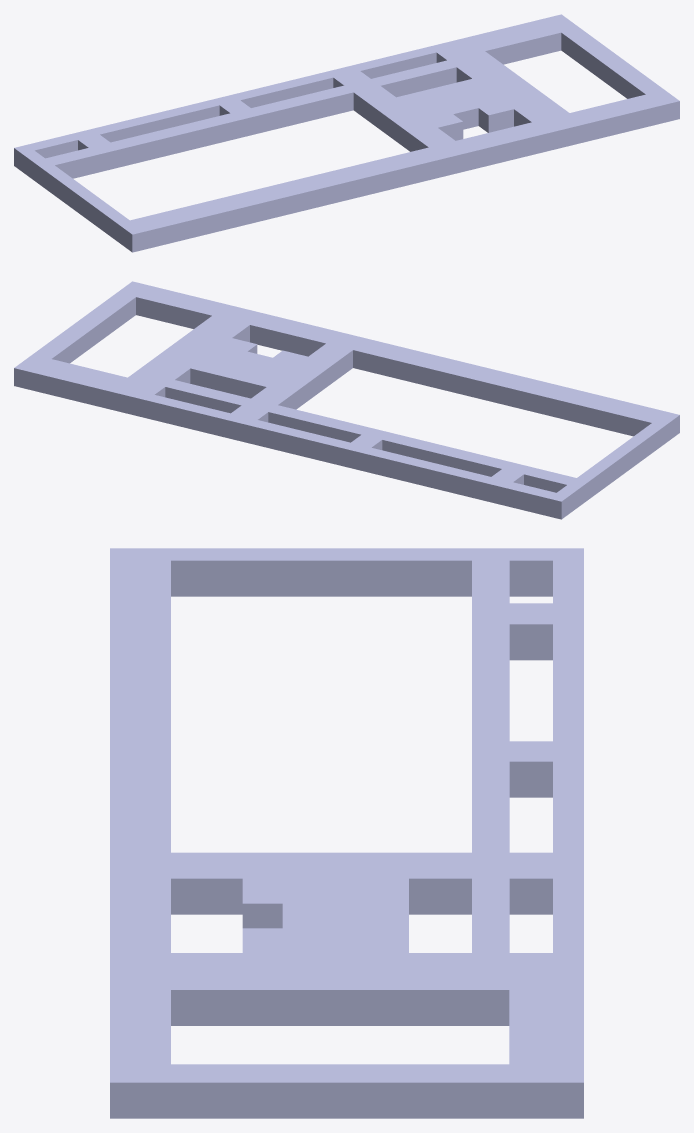
The model's file is keyboardbase_mesh_WIP.fbx.
3 views of the same model, one above another, from view 1: azimuth 30°, elevation 25°; view 2: azimuth 150°, elevation 25°; view 3: azimuth 270°, elevation 25° (orthographic). The views are drawn at different scales.
Visible parts, largest first — view 1: keyboardbase_mesh; view 2: keyboardbase_mesh; view 3: keyboardbase_mesh.
Part boxes in pixels (bbox=[...]): keyboardbase_mesh: bbox=[14, 14, 679, 252]; keyboardbase_mesh: bbox=[14, 281, 679, 519]; keyboardbase_mesh: bbox=[110, 548, 583, 1118].
Size of the model in its own units: 8.61 by 0.27 by 3.23.
